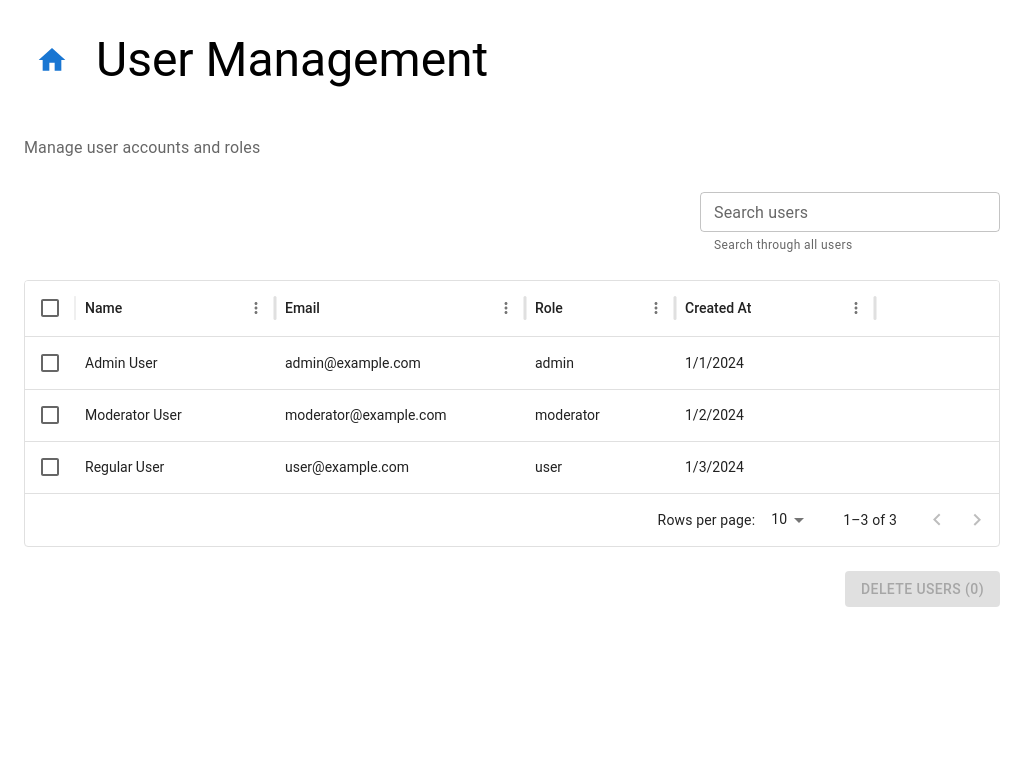
it: AdminPage › Pagination › should show correct page size options
Expected: the element showing "Rows per page: 10 1–3 of 3" is shown, [658,500,997,540]
Press the mouse on the dropdown labelled "10" at (779, 519), box [771,511,787,527]
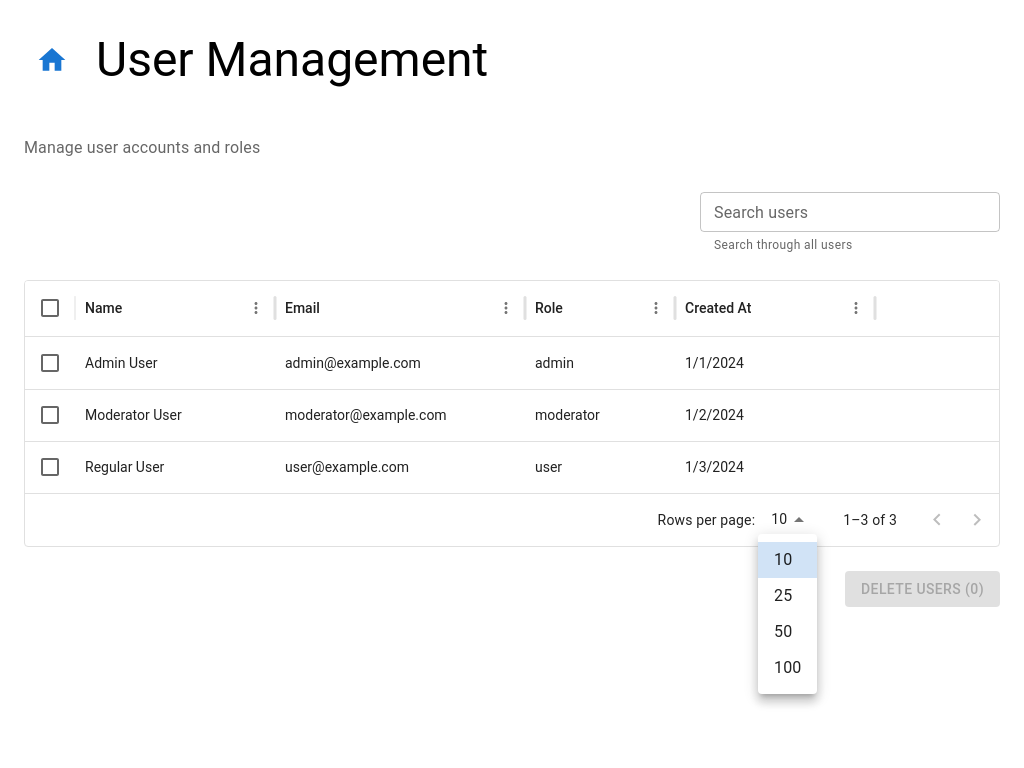
Result: the option "10" is shown at [758,542,817,578]
Result: the option "25" is shown at [774,586,792,605]
Result: the option "50" is shown at [774,622,792,641]
